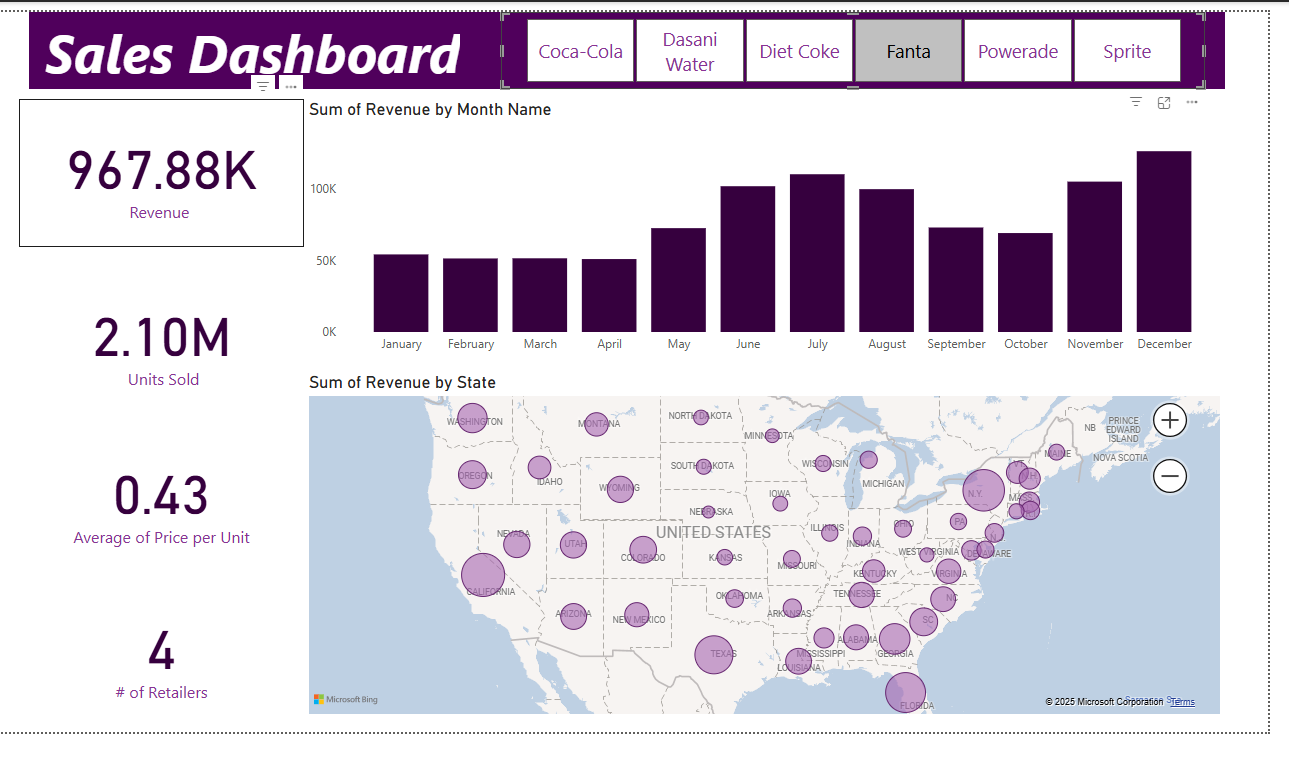

Layout of this report page (visuals, bound fields, positions):
{"tool":"powerbi","page":{"name":"Page 1","canvas":[1280,720],"ordinal":0},"visuals":[{"type":"shape","box":[41,0,1196,77],"z":0},{"type":"card","fields":{"Values":["Sum(Data.Revenue )"]},"box":[31,87,285,148],"z":1},{"type":"card","fields":{"Values":["Avg(Data.Price per Unit)"]},"box":[31,420.3,285,132],"z":2},{"type":"card","fields":{"Values":["Sum(Data.Units Sold)"]},"box":[31,257.7,285,140],"z":3},{"type":"columnChart","fields":{"Y":["Sum(Data.Revenue )"],"Category":["Data.Month Name"]},"box":[316,87,921,263],"z":4},{"type":"map","fields":{"Category":["Data.State"],"Size":["Sum(Data.Revenue )"]},"box":[316,360,921,347],"z":5},{"type":"slicer","fields":{"Values":["Data.Beverage Brand"]},"box":[513,0,704,77],"z":6},{"type":"card","fields":{"Values":["Count(Data.Retailer)"]},"box":[31,575,285,132],"z":7}]}

Visuals, with their boxes on the page's 1280x720 design canvas (x1, y1, x2, y2). These are canvas units, not pixel positions in the 1289x758 screenshot, which may show the page scaled, cropped or inside an application window:
shape: <box>41,0,1237,77</box>
card - Sum(Data.Revenue ): <box>31,87,316,235</box>
card - Avg(Data.Price per Unit): <box>31,420,316,552</box>
card - Sum(Data.Units Sold): <box>31,258,316,398</box>
columnChart - Sum(Data.Revenue ) x Data.Month Name: <box>316,87,1237,350</box>
map - Data.State x Sum(Data.Revenue ): <box>316,360,1237,707</box>
slicer - Data.Beverage Brand: <box>513,0,1217,77</box>
card - Count(Data.Retailer): <box>31,575,316,707</box>
